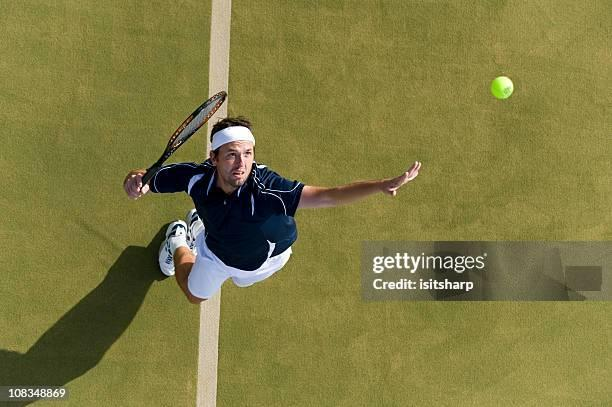ball_tennis: (492, 74, 514, 102)
